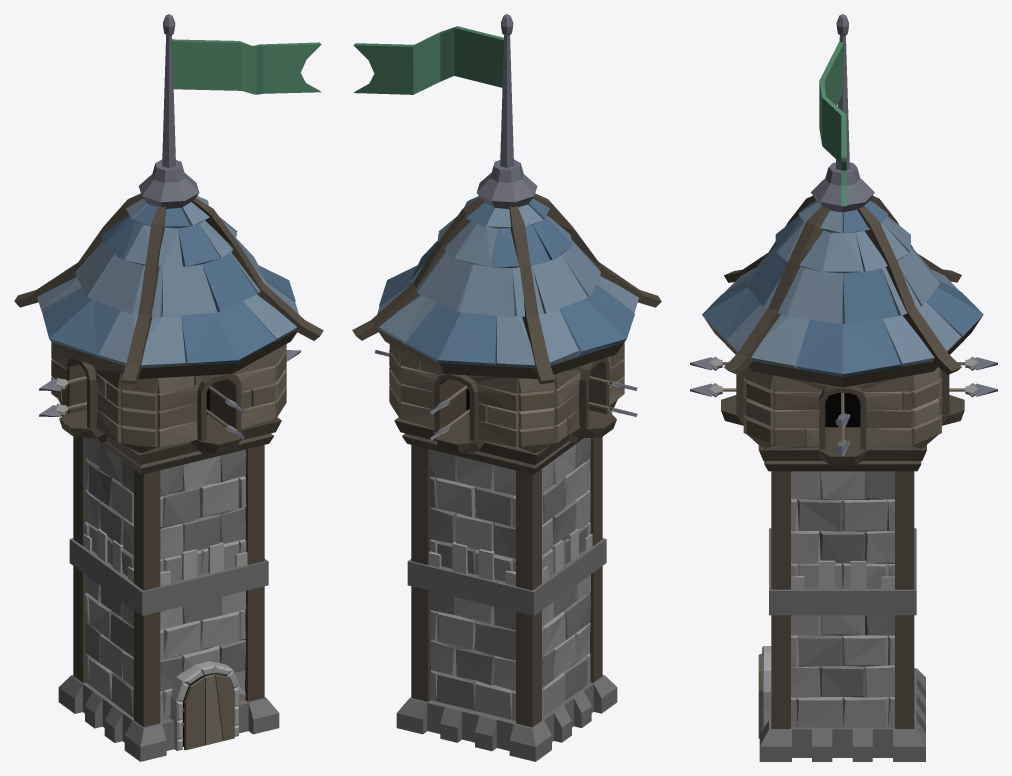
Rendered from _archers_tower_LVL_2.fbx.
3 renders of one model, left to right at view 1: azimuth 30°, elevation 25°; view 2: azimuth 150°, elevation 25°; view 3: azimuth 270°, elevation 25°, orthographic.
Parts seen in each view (by area): view 1: archers_tower_LVL_2; view 2: archers_tower_LVL_2; view 3: archers_tower_LVL_2.
Boxes of the visible parts, x1=… form: archers_tower_LVL_2: x1=14, y1=14, x2=323, y2=761; archers_tower_LVL_2: x1=352, y1=14, x2=661, y2=761; archers_tower_LVL_2: x1=690, y1=14, x2=997, y2=761.
Bounding box in the file's own units: 850 × 2020 × 790.
